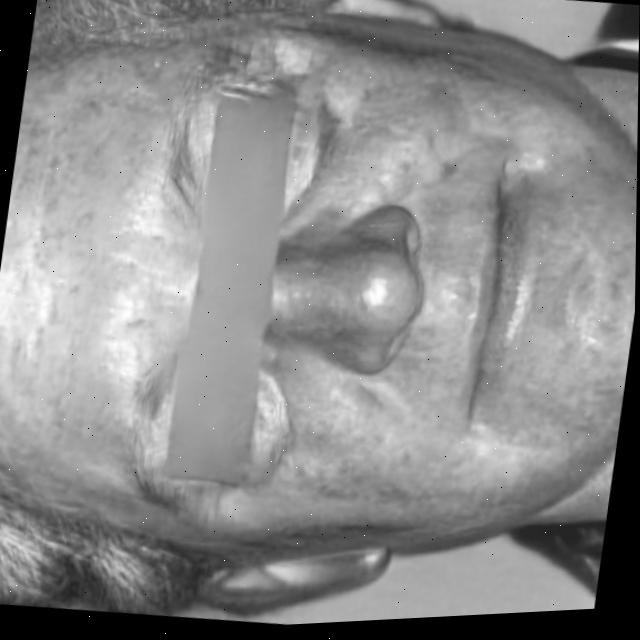Rosacea: (527, 101, 638, 396), (3, 79, 141, 262), (324, 70, 488, 191), (273, 388, 427, 504)
